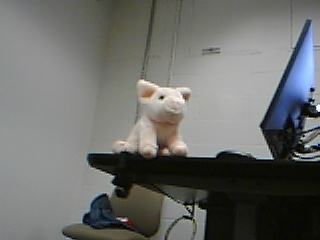piggy: (111, 78, 194, 160)
